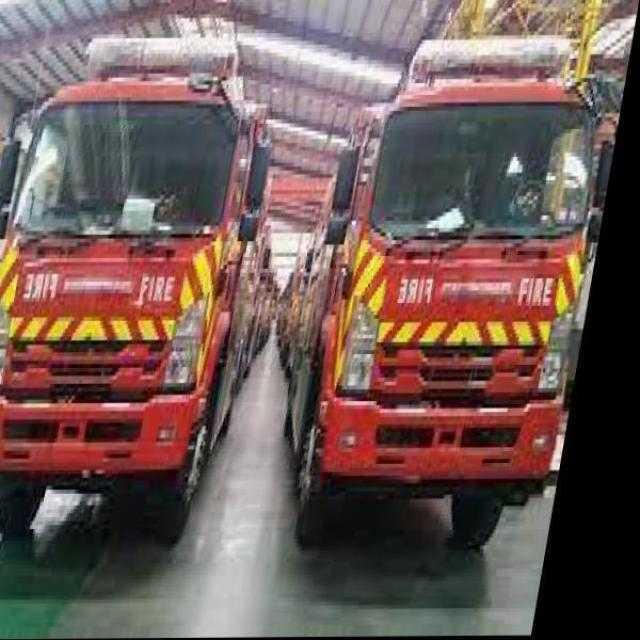emergency: (275, 32, 619, 550), (1, 32, 276, 544)
